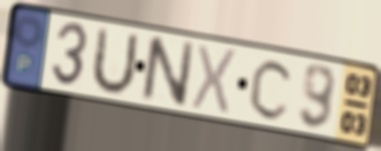3: (48, 20, 90, 91)
9: (297, 61, 336, 133)
C: (247, 56, 297, 122)
N: (139, 34, 198, 110)
U: (87, 24, 142, 98)
X: (188, 42, 240, 119)
